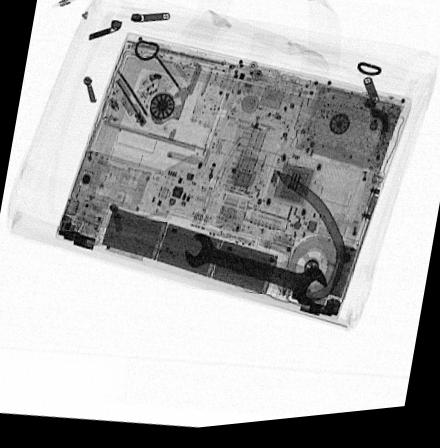Wrench: (183, 234, 325, 312)
